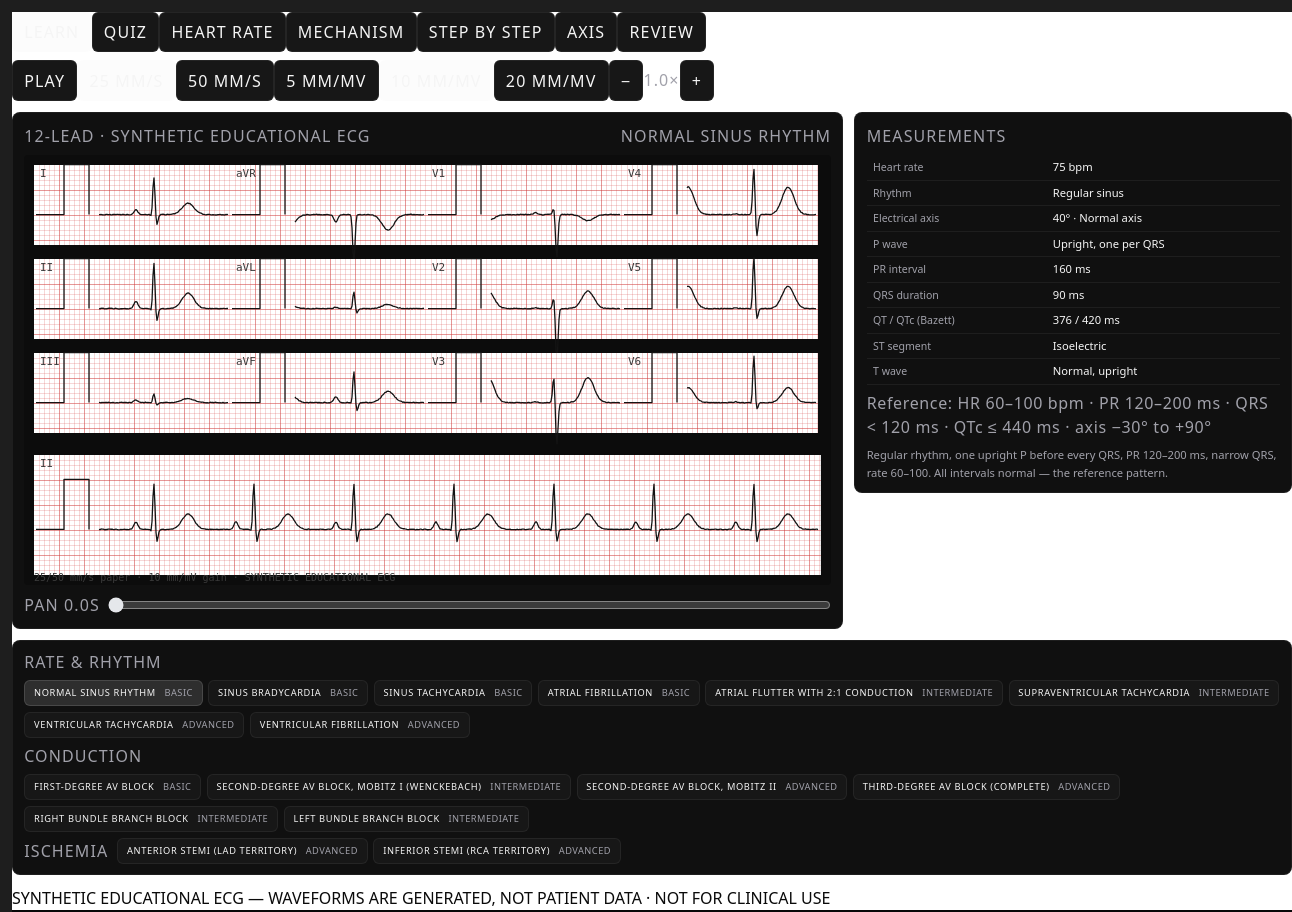
Test: ECG Lab interface › switches paper speed and gain controls
The width and height of the screenshot is (1292, 912).
Click the button "50 MM/S" at x=225, y=81, box [176,60,274,101]
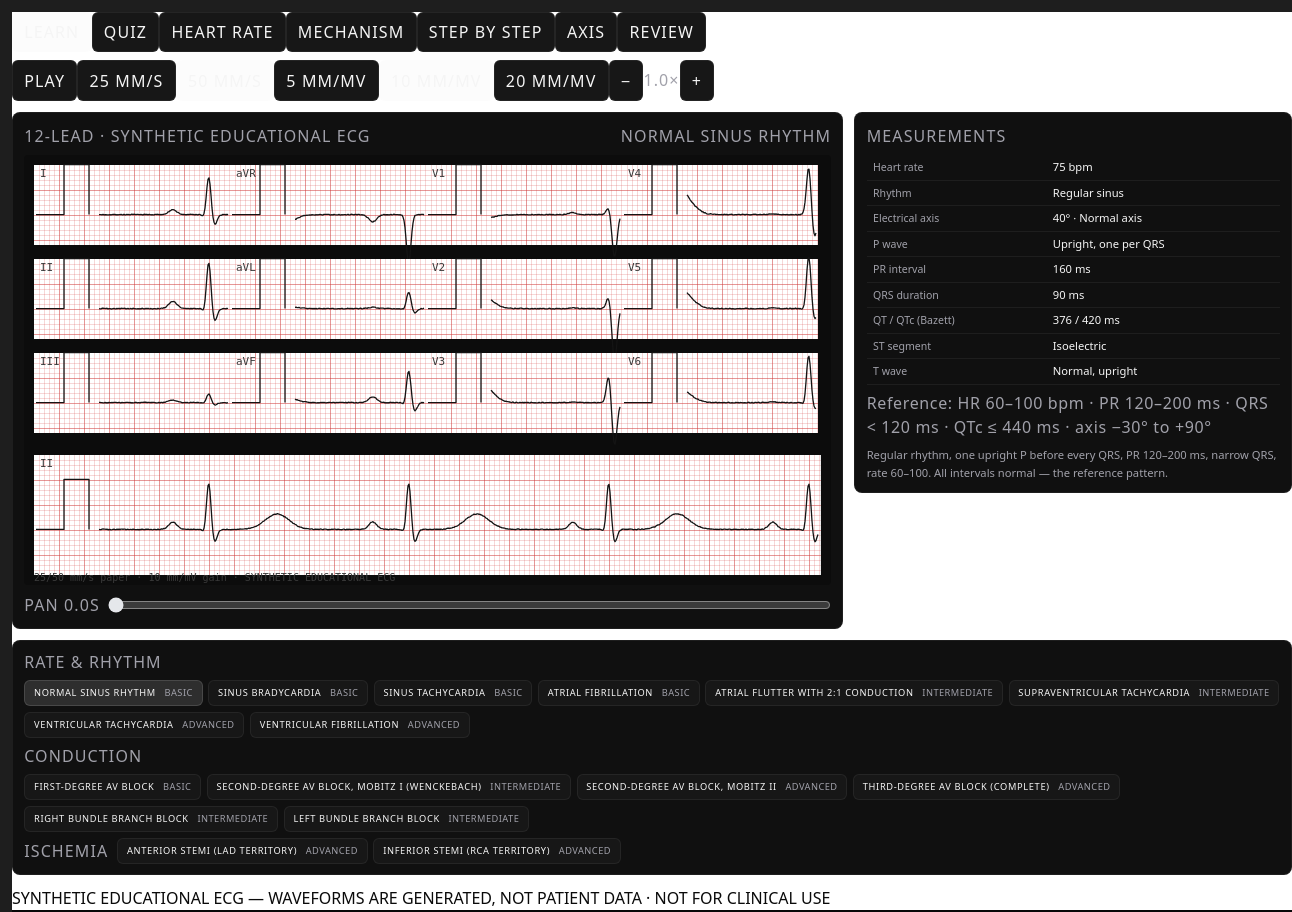
Expected: the button "50 MM/S" is pressed, [176,60,274,101]
Click the button "20 MM/MV" at x=551, y=81, box [494,60,609,101]
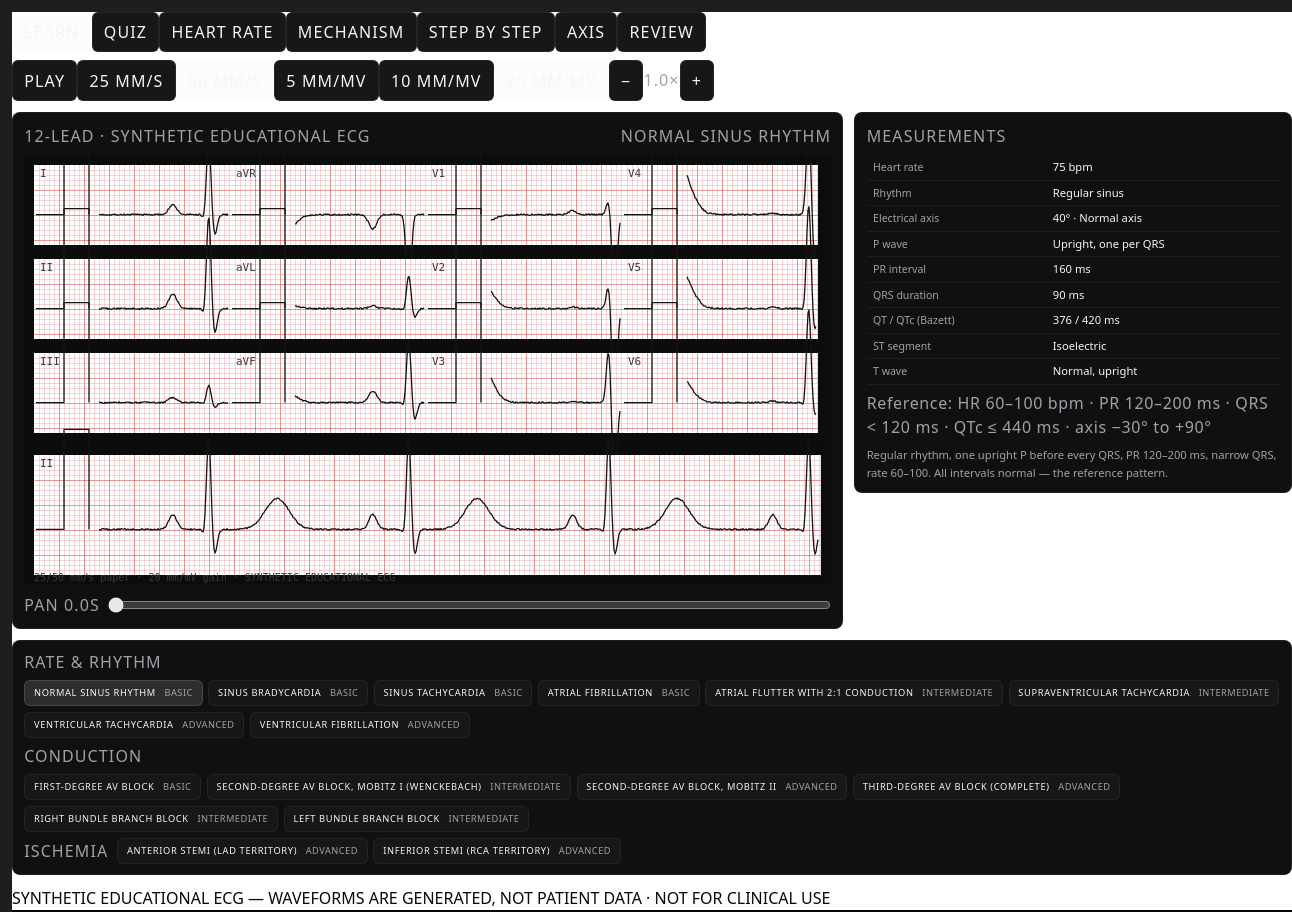
Expected: the button "20 MM/MV" is pressed, [494,60,609,101]
